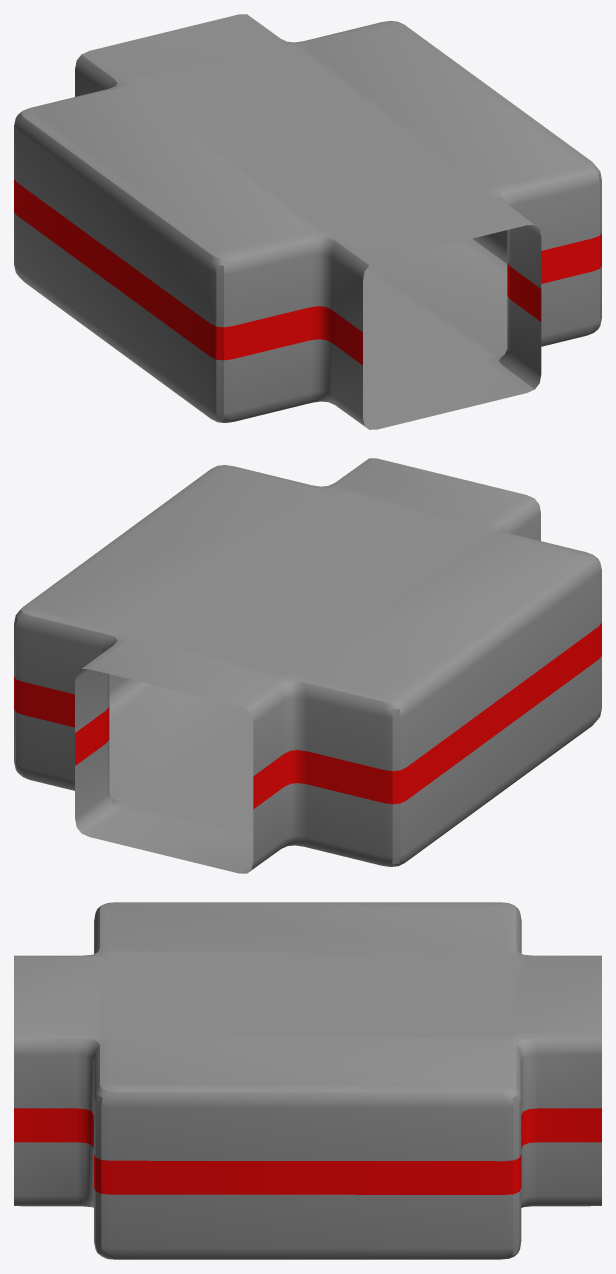
Rendered from HallWay_Wide_001.FBX.
3 views of the same model, one above another, from view 1: azimuth 30°, elevation 25°; view 2: azimuth 150°, elevation 25°; view 3: azimuth 270°, elevation 25° (orthographic). The views are drawn at different scales.
Parts seen in each view (by area): view 1: HallWay_Wide_001; view 2: HallWay_Wide_001; view 3: HallWay_Wide_001.
Boxes of the visible parts, x1,y1,x2,y2 form: HallWay_Wide_001: (14,14,601,429); HallWay_Wide_001: (14,458,601,873); HallWay_Wide_001: (14,902,601,1259).
Size of the model in its own units: 5.47 by 2.25 by 7.
